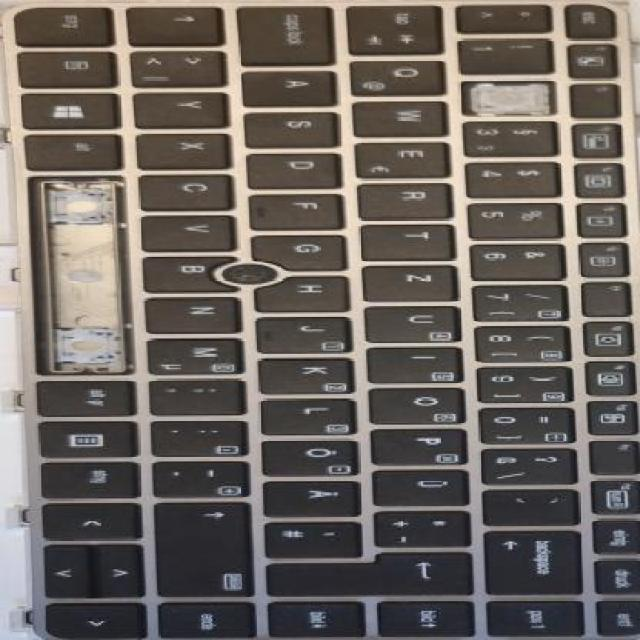Keyboard problems: (29, 178, 132, 372), (469, 83, 549, 115)
